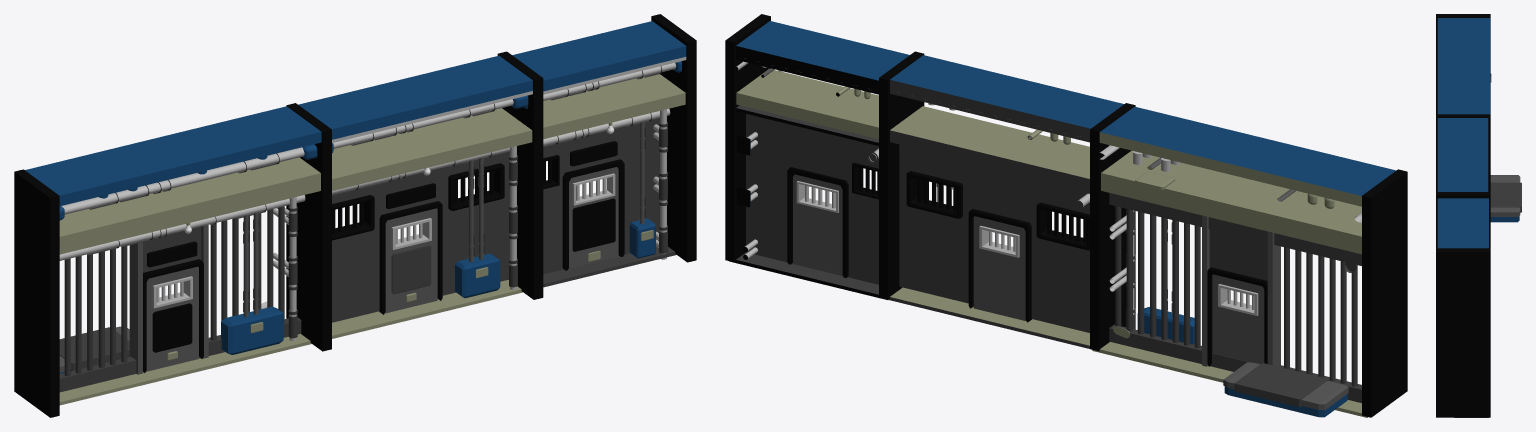
File: prison.fbx
3 renders of one model, left to right at view 1: azimuth 30°, elevation 25°; view 2: azimuth 150°, elevation 25°; view 3: azimuth 270°, elevation 25°, orthographic. The views are drawn at different scales.
Visible parts, largest first — view 1: 四人監獄, 雙人監獄.001, 單人監獄, 立方體.004, 立方體.003, 立方體.002, 立方體.005, 立方體.001, 立方體; view 2: 四人監獄, 雙人監獄.001, 單人監獄, 立方體.003, 立方體.004, 立方體.002, 立方體, 立方體.001, 立方體.005; view 3: 立方體.005, 四人監獄, 雙人監獄.001, 單人監獄, 立方體.002, 立方體.001, 立方體.004.
Part boxes in pixels (x1,y1,x2,y2): 四人監獄: [25, 106, 321, 405]; 雙人監獄.001: [298, 55, 532, 338]; 單人監獄: [512, 21, 686, 287]; 立方體.004: [14, 169, 59, 417]; 立方體.003: [59, 157, 320, 254]; 立方體.002: [286, 103, 331, 351]; 立方體.005: [651, 14, 696, 262]; 立方體.001: [497, 51, 543, 299]; 立方體: [543, 74, 685, 139]; 四人監獄: [1092, 106, 1396, 417]; 雙人監獄.001: [889, 55, 1124, 348]; 單人監獄: [729, 21, 909, 299]; 立方體.003: [1101, 150, 1361, 254]; 立方體.004: [1362, 169, 1407, 417]; 立方體.002: [1090, 103, 1135, 351]; 立方體: [736, 68, 878, 138]; 立方體.001: [879, 51, 924, 299]; 立方體.005: [725, 14, 770, 262]; 立方體.005: [1436, 248, 1490, 417]; 四人監獄: [1437, 18, 1521, 222]; 雙人監獄.001: [1437, 118, 1488, 191]; 單人監獄: [1437, 198, 1488, 417]; 立方體.002: [1436, 114, 1490, 191]; 立方體.001: [1436, 192, 1490, 248]; 立方體.004: [1436, 14, 1490, 114].
Bounding box in the file's own units: 2089 × 690 × 318.
